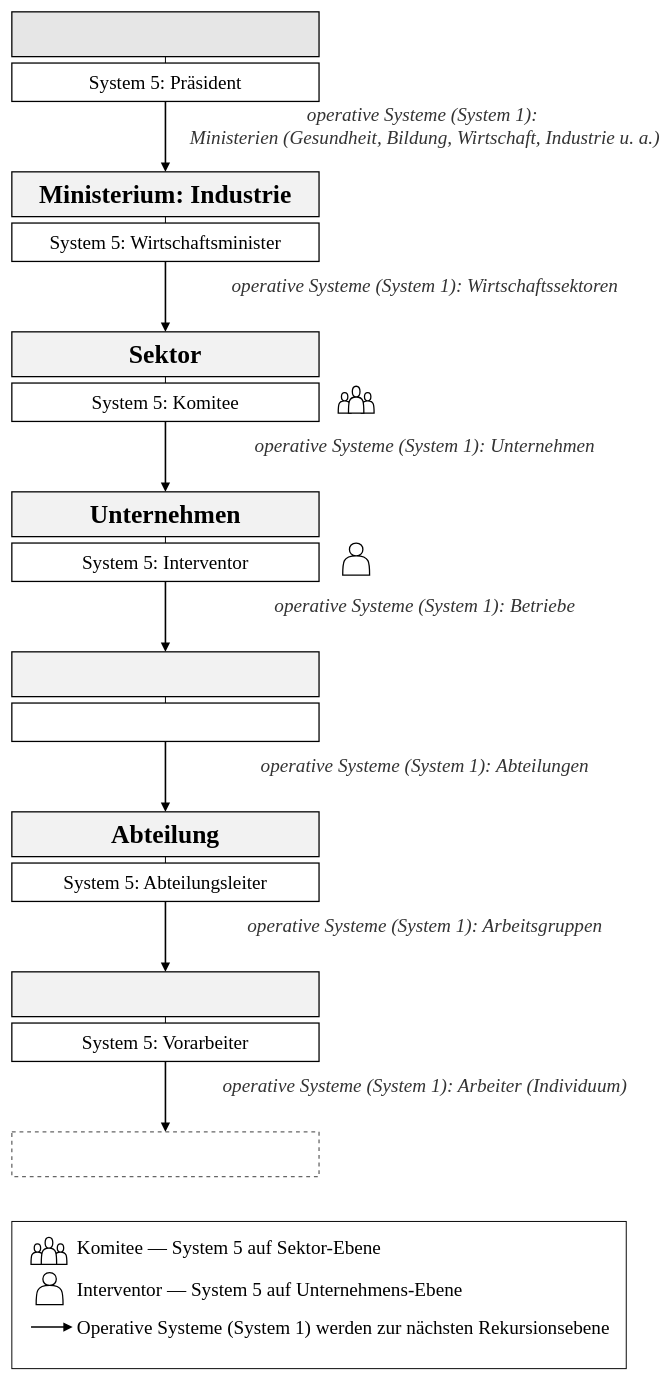
This 670x1380 diagram has some shape labels left out. The box of each missing label's shape, as (x1, y1, x2, y2) in pixels:
Arbeiter (elementare Einheit, kein weiteres VSM): (11, 1131, 319, 1177)
Arbeitsgruppe: (11, 971, 319, 1017)
Betrieb: (11, 651, 319, 697)
Staat: (11, 11, 319, 57)
System 5: Betriebsleiter: (11, 702, 319, 742)
